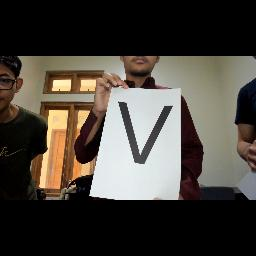v: (112, 96, 182, 170)
